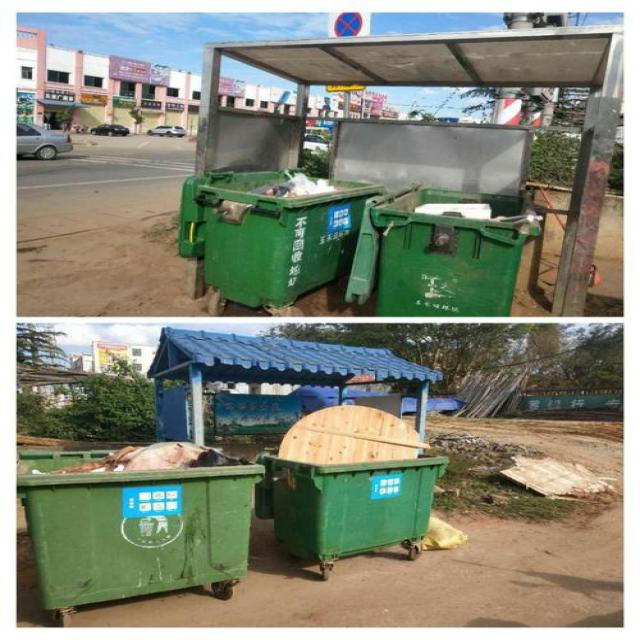garbage: (420, 514, 466, 550)
overflow: (17, 441, 265, 609), (253, 405, 447, 558), (180, 169, 384, 304), (344, 184, 539, 316)
